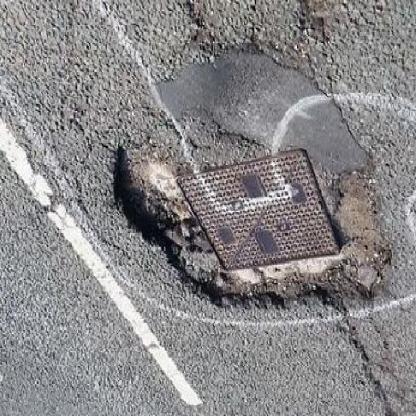pothole: (112, 144, 398, 317)
